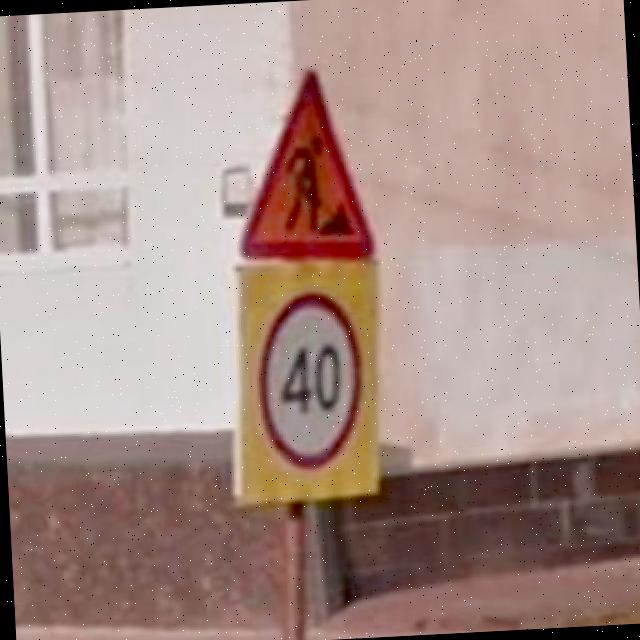Ograniczenie predkosci do 40: (254, 285, 368, 471)
